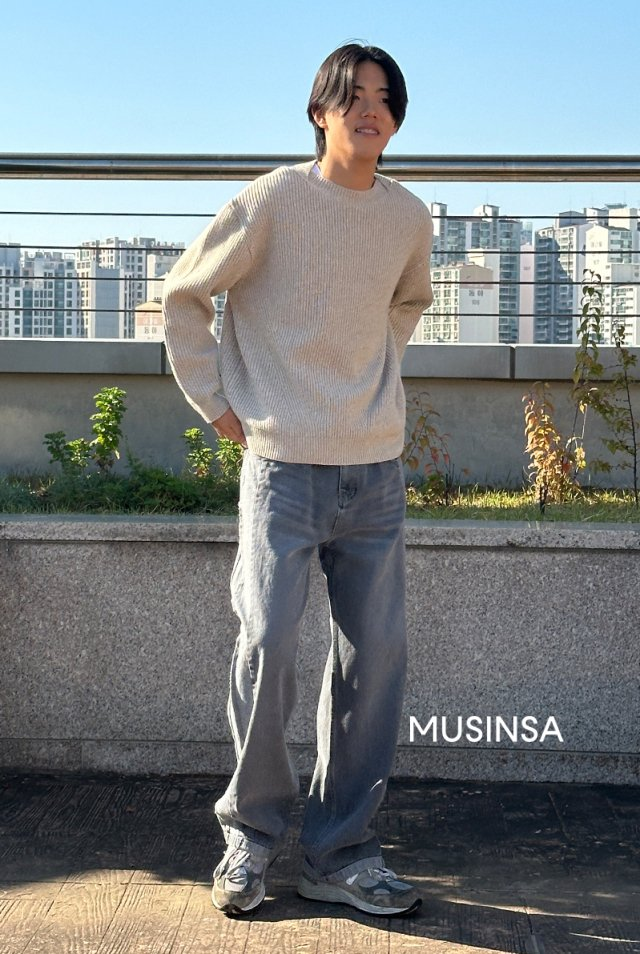Jeans: (217, 445, 419, 863)
Shoes: (205, 848, 438, 926)
Top: (154, 164, 441, 463)
